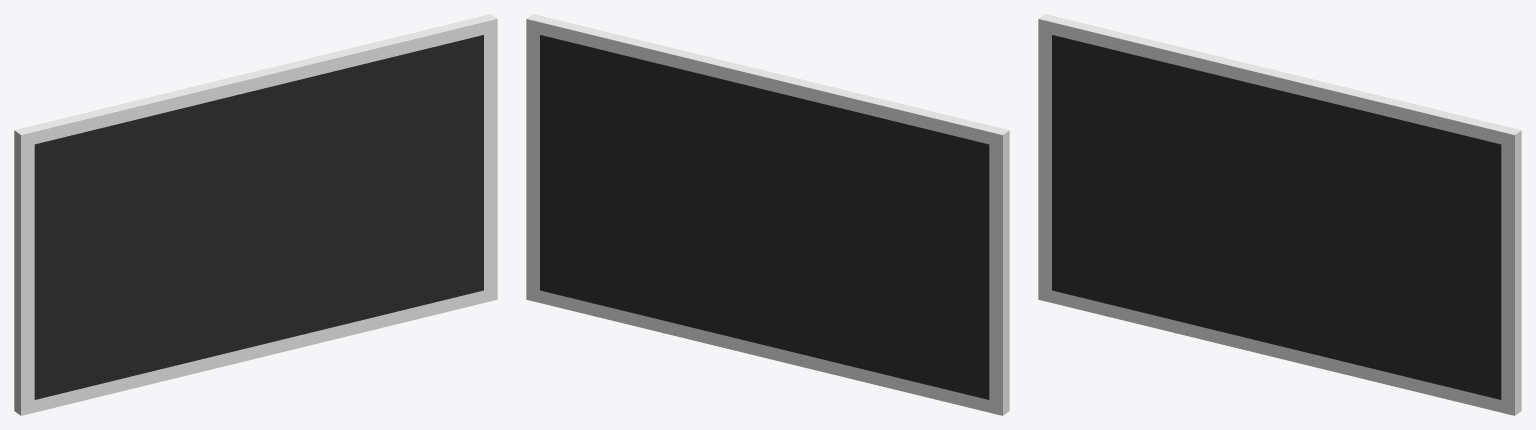
File: ScoreBoard_Hanging.fbx
3 views of the same model, side by side, from view 1: azimuth 30°, elevation 25°; view 2: azimuth 150°, elevation 25°; view 3: azimuth 330°, elevation 25° (orthographic).
Visible parts, largest first — view 1: ScoreBoard_Hanging; view 2: ScoreBoard_Hanging; view 3: ScoreBoard_Hanging.
Boxes of the visible parts, x1=… form: ScoreBoard_Hanging: x1=14, y1=14, x2=497, y2=415; ScoreBoard_Hanging: x1=526, y1=14, x2=1009, y2=415; ScoreBoard_Hanging: x1=1038, y1=14, x2=1521, y2=415.
Size of the model in its own units: 396 by 223 by 9.69.
